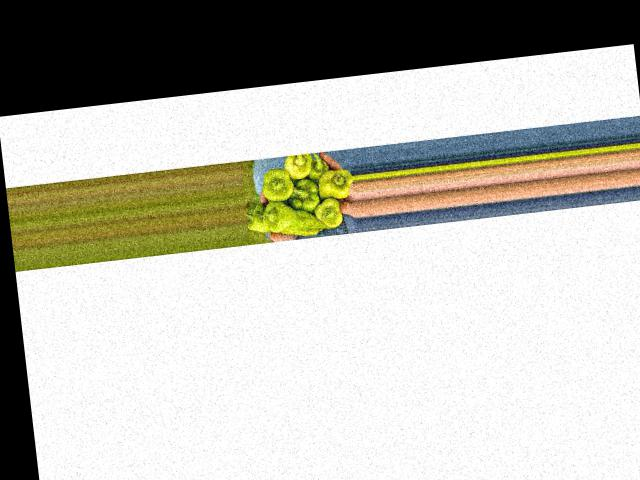bell_pepper: (314, 164, 353, 199)
